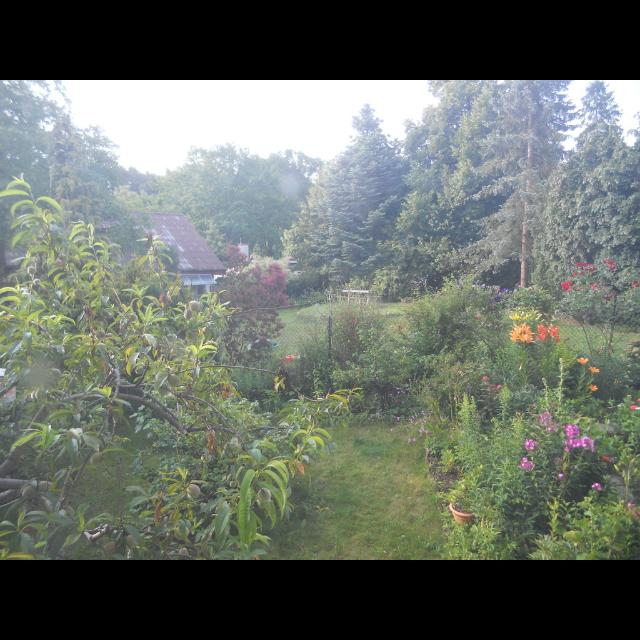Flower: (392, 378, 441, 442), (560, 258, 618, 302), (508, 311, 560, 343), (457, 282, 521, 302), (561, 434, 593, 452), (540, 412, 558, 432), (618, 394, 640, 410), (564, 423, 582, 441), (626, 502, 640, 518), (518, 456, 534, 469), (524, 440, 536, 450), (578, 356, 588, 366), (588, 382, 598, 392), (590, 482, 602, 490), (588, 366, 596, 374), (632, 281, 640, 287), (396, 323, 402, 329), (476, 314, 482, 320), (482, 374, 488, 380), (497, 383, 503, 389), (558, 472, 564, 478)
